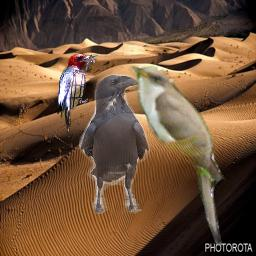Crow: (79, 74, 151, 214)
Cuckoo: (125, 61, 226, 249)
Woodpecker: (57, 53, 99, 134)
